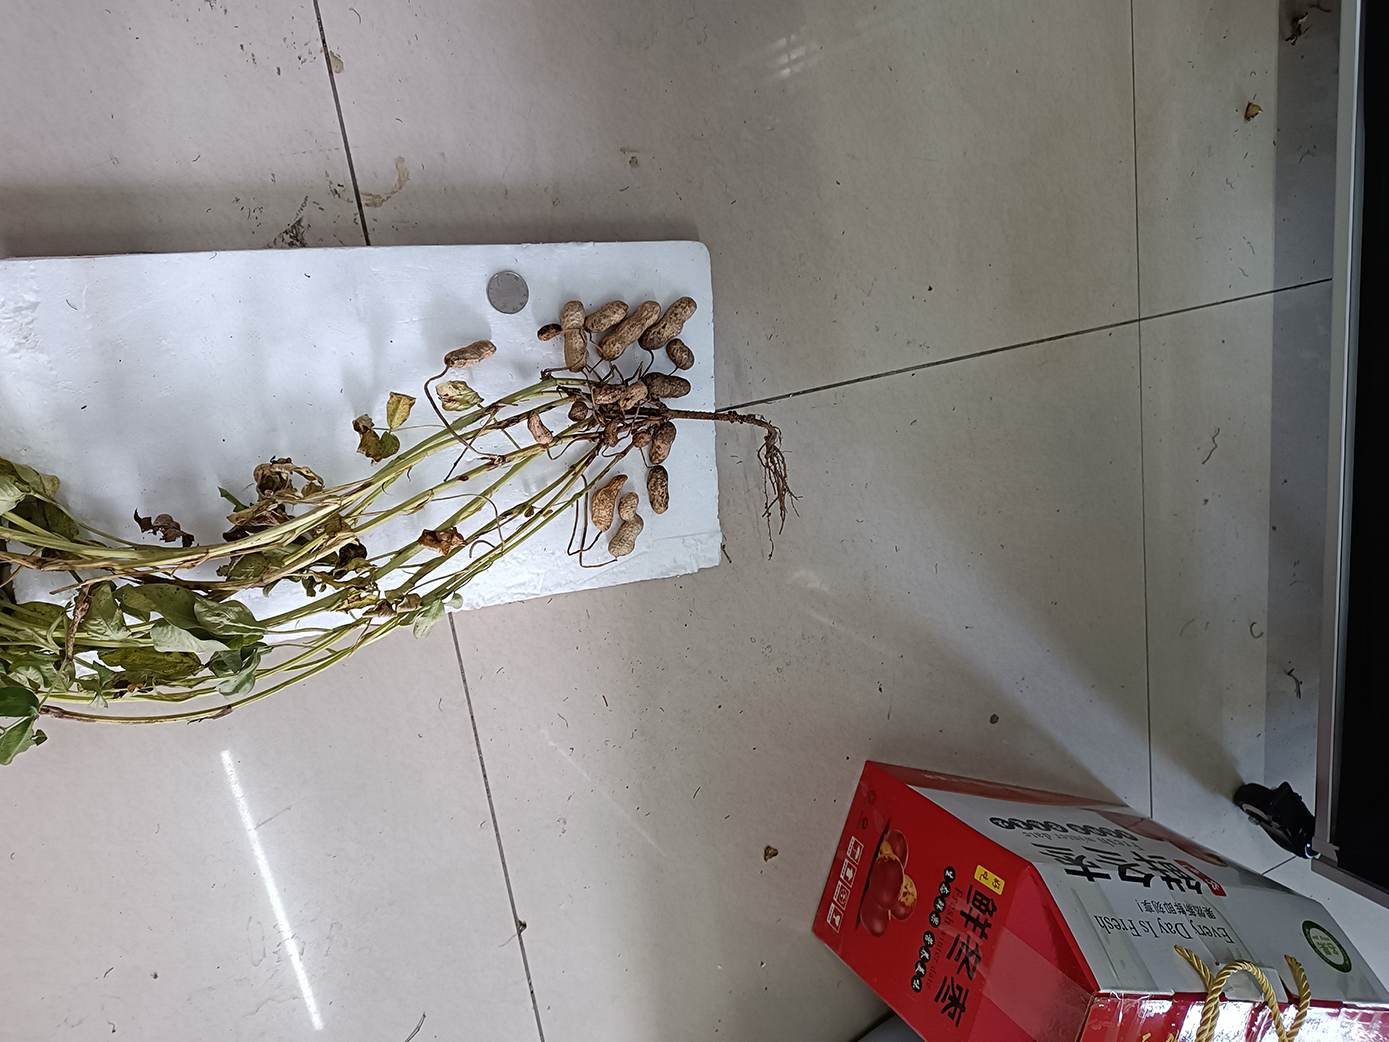h: (599, 300, 659, 362), (641, 298, 696, 350), (590, 475, 628, 533), (607, 493, 643, 555), (562, 300, 588, 374), (444, 341, 498, 369), (584, 301, 628, 332), (650, 422, 675, 465), (667, 339, 695, 371), (526, 413, 554, 445), (621, 382, 648, 408), (592, 384, 624, 404), (536, 324, 564, 341), (603, 418, 618, 448), (633, 429, 650, 449)
l: (644, 372, 692, 400), (646, 465, 671, 516), (568, 400, 587, 422)
